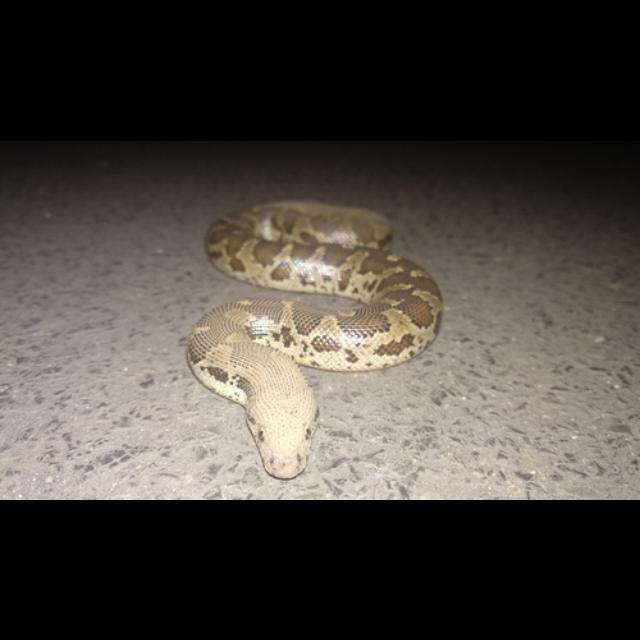snake: (186, 197, 450, 488)
